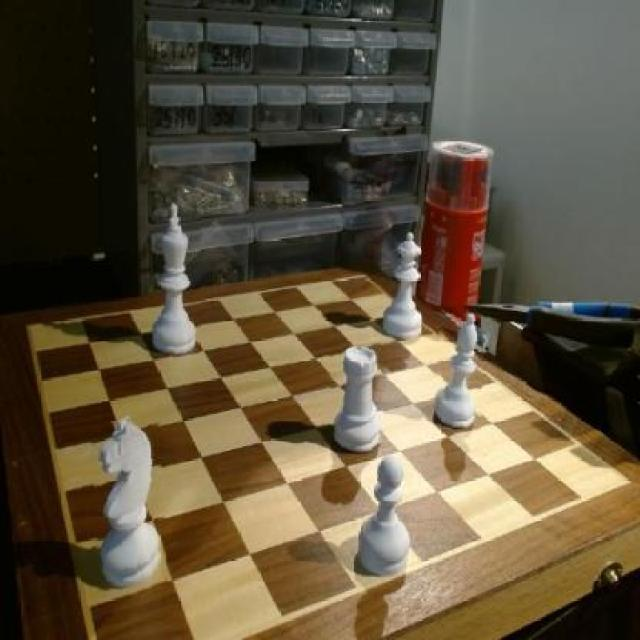black-rook: (434, 306, 484, 435)
white-bishop: (148, 197, 200, 358)
white-king: (90, 417, 164, 595)
white-knight: (356, 452, 414, 583)
white-pawn: (383, 230, 428, 342)
white-queen: (331, 344, 384, 462)
